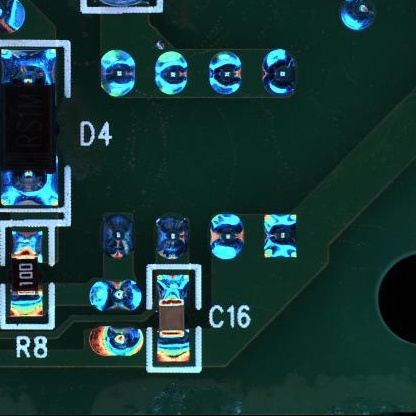spot: (262, 212, 301, 262), (87, 279, 146, 312), (261, 47, 296, 98), (89, 326, 147, 356), (206, 49, 242, 97), (101, 48, 136, 97), (210, 213, 246, 260), (155, 214, 188, 263), (101, 213, 133, 261), (156, 52, 189, 96)
